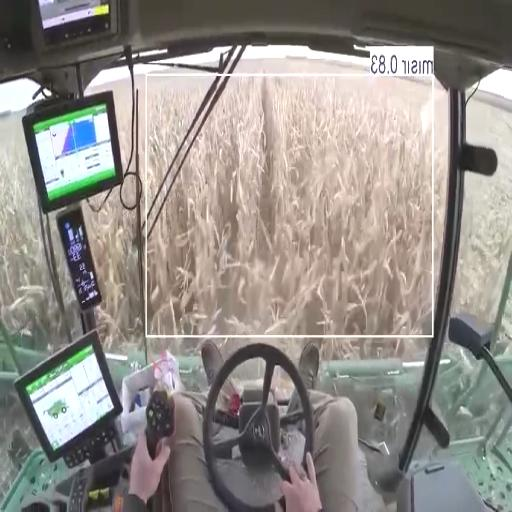misir: (148, 76, 447, 356), (145, 77, 208, 195)
